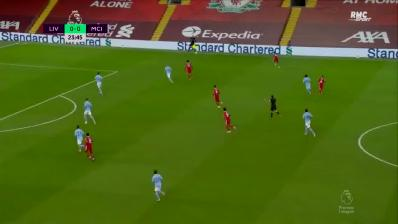player: (149, 168, 168, 206), (300, 108, 318, 139), (82, 97, 98, 127), (221, 107, 238, 135), (73, 124, 85, 154), (84, 132, 96, 162), (212, 84, 226, 109), (94, 72, 106, 97), (163, 63, 176, 86), (302, 74, 314, 96), (184, 58, 195, 81), (272, 51, 282, 70), (318, 74, 326, 96)
referee: (268, 93, 282, 120)
